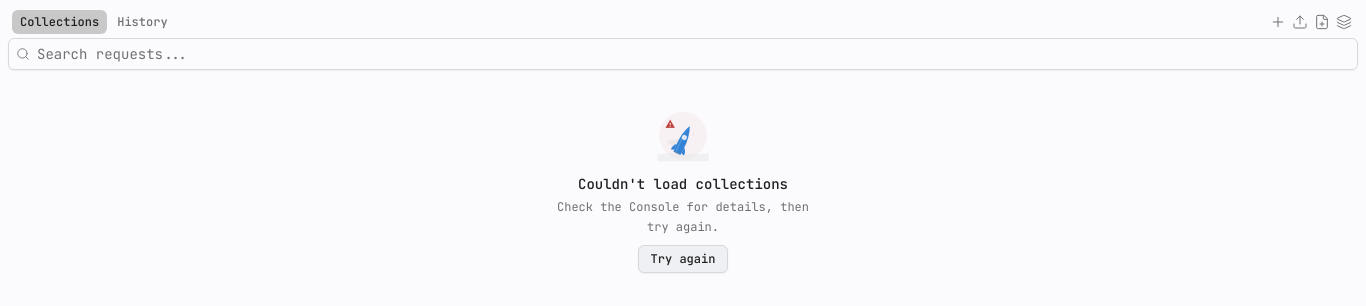
Test: CollectionsSidebar empty state › reports a failed load and retries on request
Expected: the text "No collections yet" is not shown
Click the button "Try again".
click(683, 259)  # box [638,245,728,273]
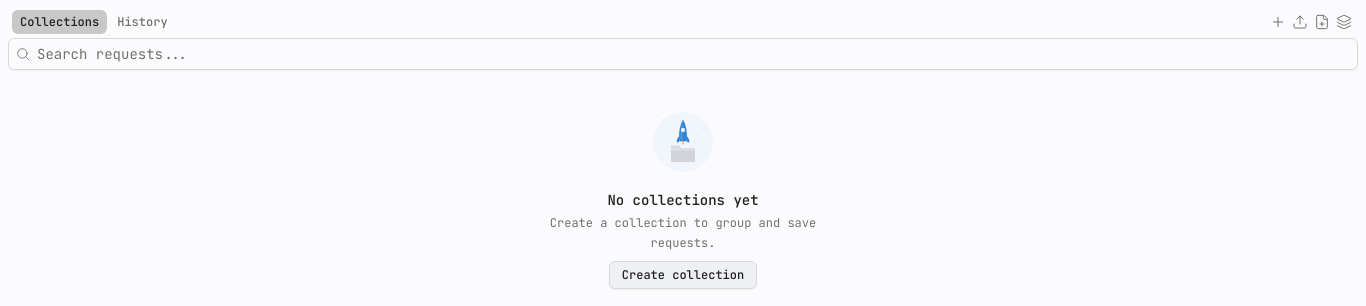
Now the text "No collections yet" is shown, box [607,191,759,209]
